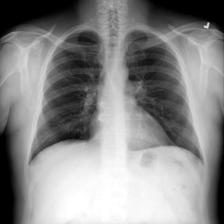normal: (25, 23, 206, 167)
